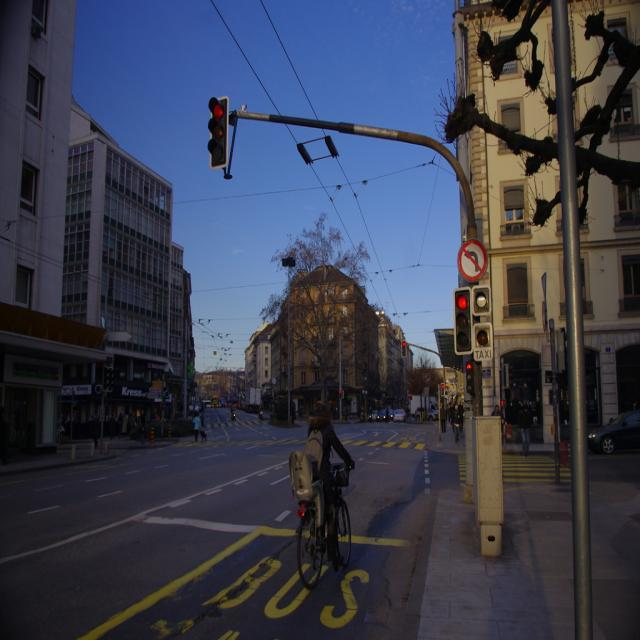road_sign: (459, 242, 491, 280)
traffic light: (208, 95, 228, 169), (454, 286, 473, 356), (466, 362, 474, 395), (401, 339, 407, 357)
